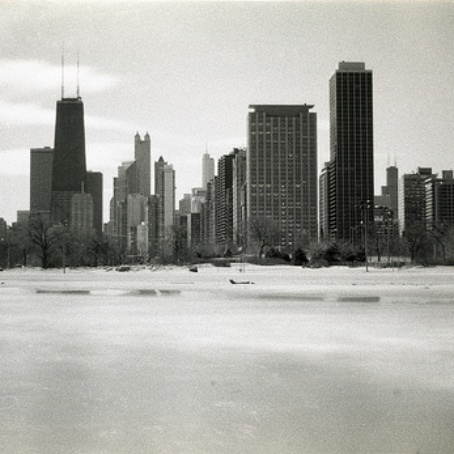building: (243, 98, 318, 256), (25, 95, 99, 245), (320, 56, 376, 249), (108, 131, 156, 265), (393, 163, 454, 251), (149, 156, 182, 256), (212, 150, 243, 253), (184, 149, 214, 254)
sky: (8, 1, 454, 158)
